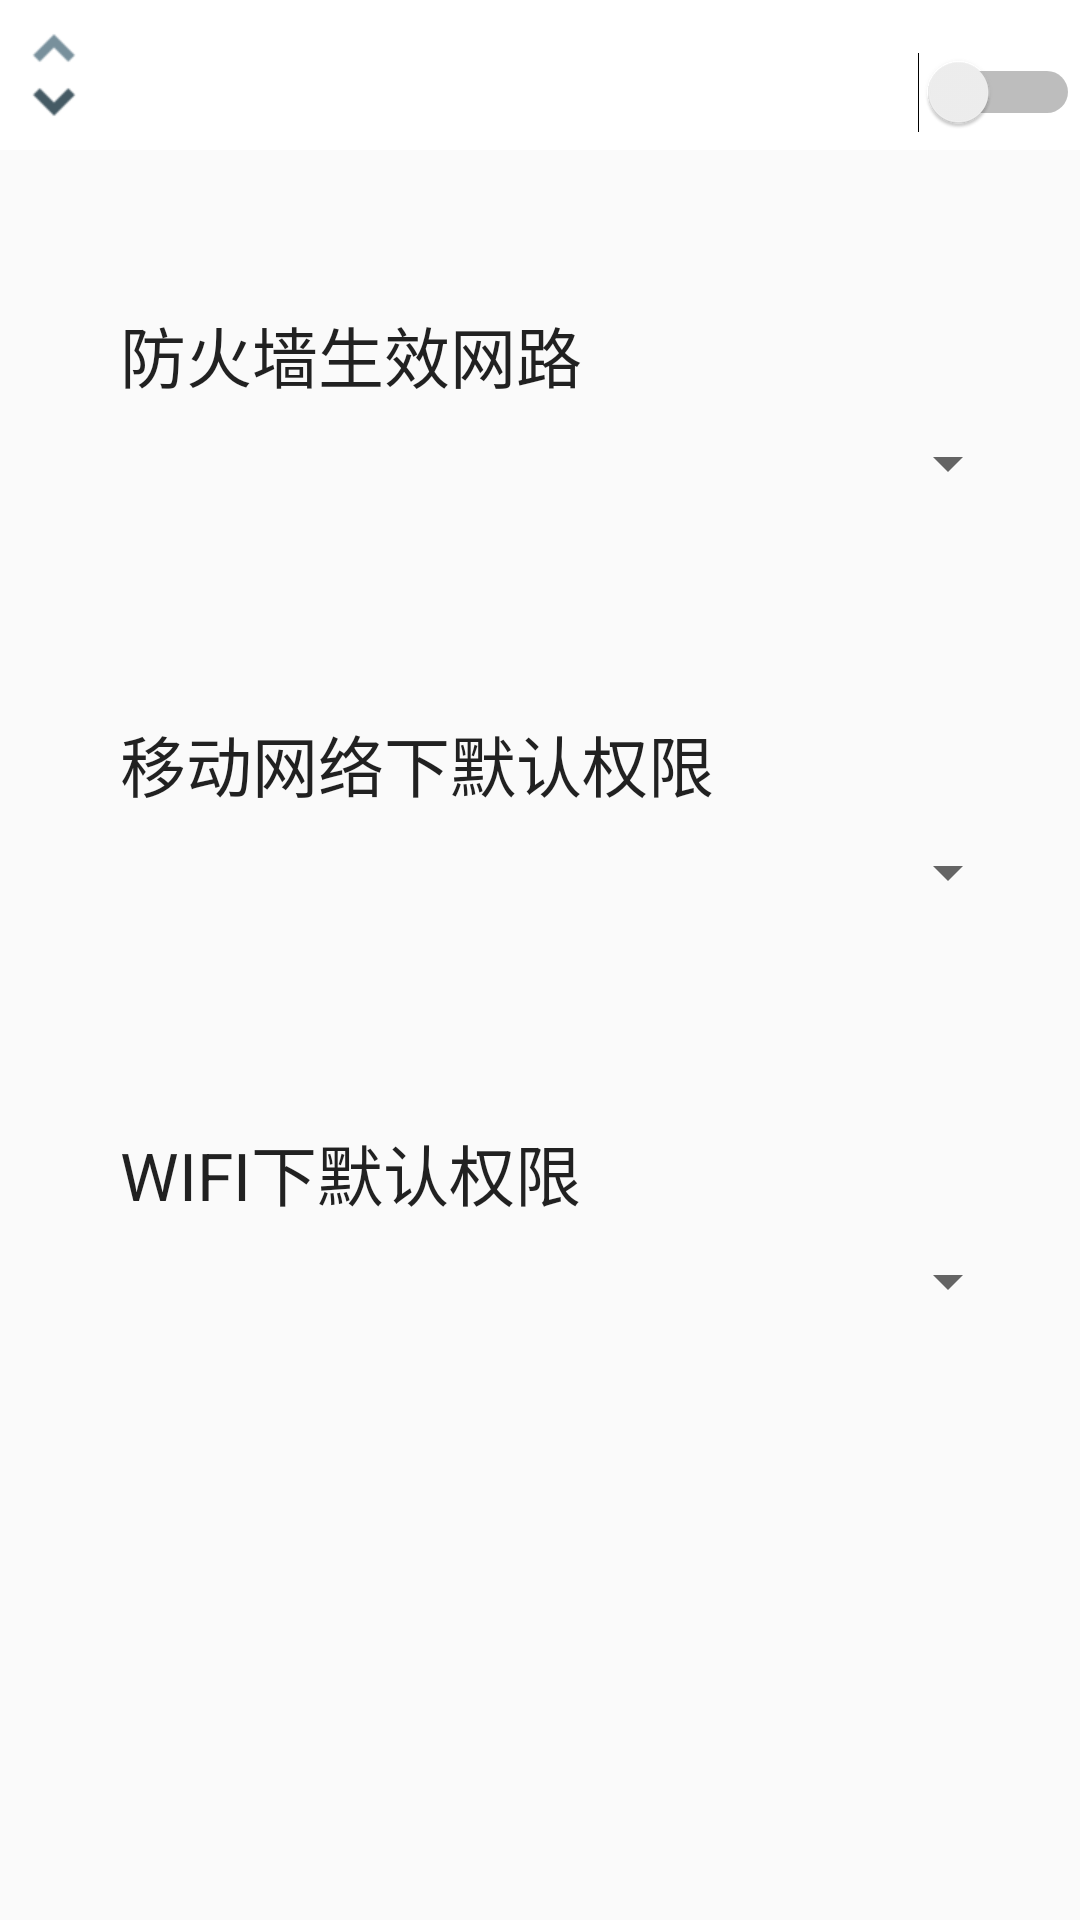

Where icons sit on this 1080 x 1920 app screen, as (x1, y1, x2, y2):
unfold more: (33, 34, 75, 116)
